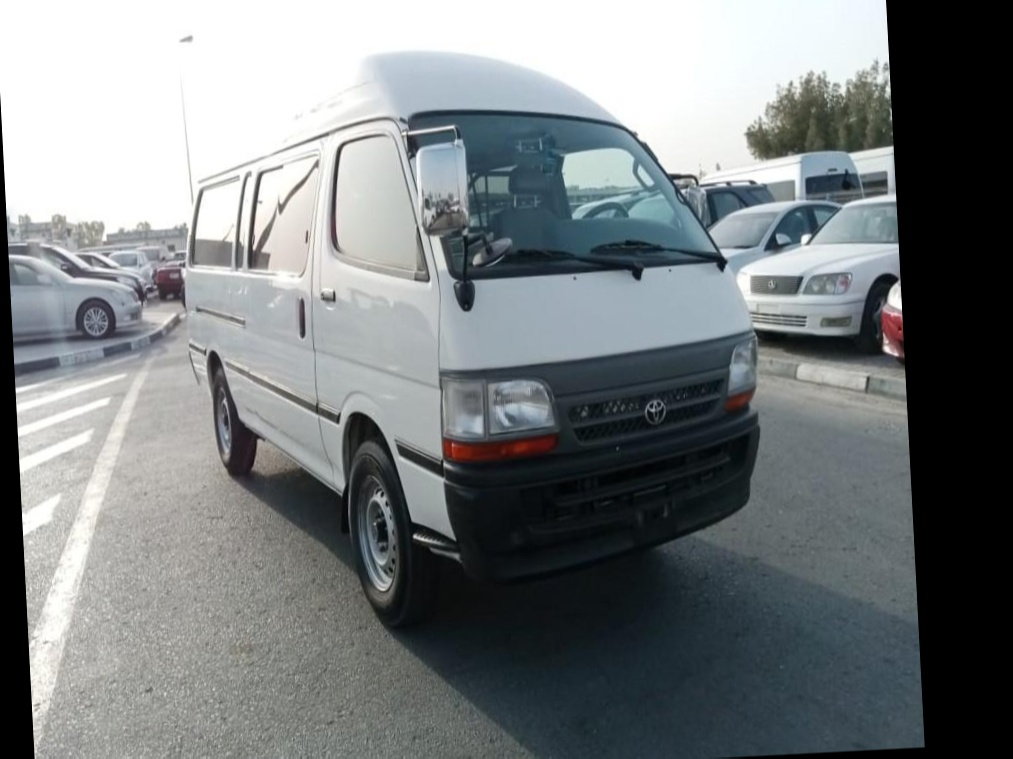van: (170, 38, 770, 622)
